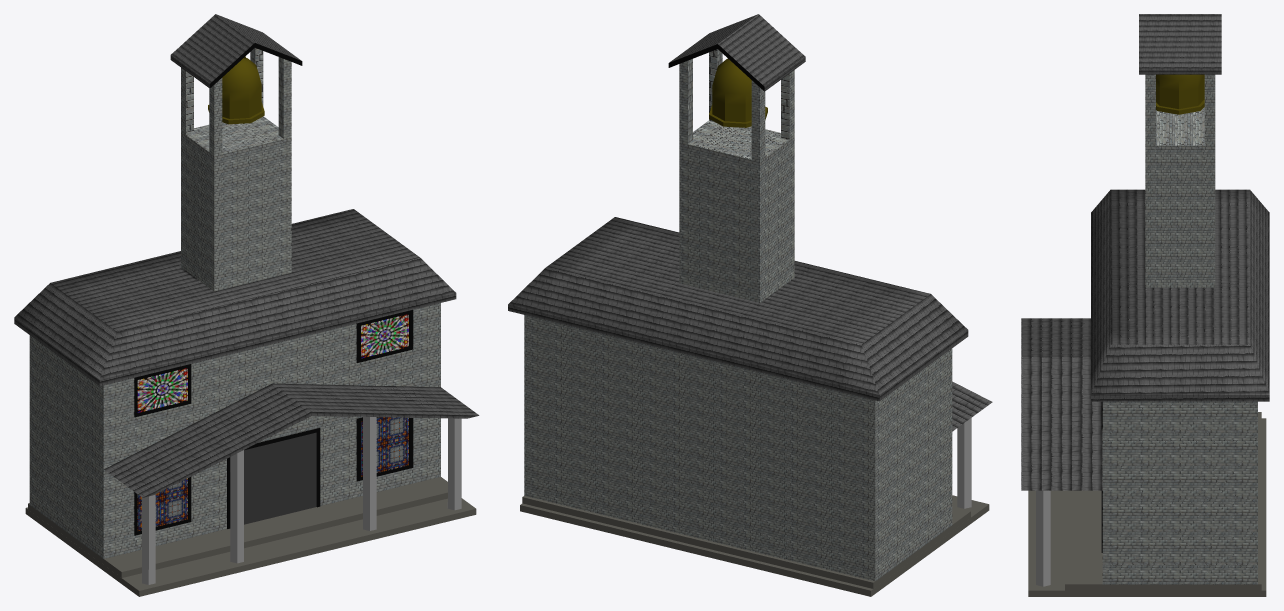
The model's file is TownHall.fbx.
The picture shows the model from 3 angles, left to right: view 1: azimuth 30°, elevation 25°; view 2: azimuth 150°, elevation 25°; view 3: azimuth 270°, elevation 25°; orthographic projection. The views are drawn at different scales.
Parts seen in each view (by area): view 1: polySurface6, TownHallBase01, TownHallBase02, TownHallBellRoof, TownHallBell, TownHallPillar02, TownHallPillar03, TownHallPillar01, TownHallPillar04; view 2: polySurface6, TownHallBellRoof, TownHallBase01, TownHallBase02, TownHallBell, TownHallPillar04; view 3: polySurface6, TownHallBase02, TownHallBase01, TownHallBellRoof, TownHallBell, TownHallPillar01.
Part boxes in pixels (x1=…): polySurface6: x1=14, y1=48, x2=479, y2=558; TownHallBase01: x1=25, y1=498, x2=476, y2=596; TownHallBase02: x1=28, y1=476, x2=447, y2=577; TownHallBellRoof: x1=170, y1=14, x2=302, y2=88; TownHallBell: x1=208, y1=58, x2=264, y2=124; TownHallPillar02: x1=363, y1=416, x2=376, y2=530; TownHallPillar03: x1=230, y1=450, x2=243, y2=563; TownHallPillar01: x1=447, y1=418, x2=461, y2=510; TownHallPillar04: x1=142, y1=494, x2=155, y2=584; polySurface6: x1=508, y1=49, x2=992, y2=581; TownHallBellRoof: x1=668, y1=14, x2=805, y2=91; TownHallBase01: x1=520, y1=495, x2=989, y2=596; TownHallBase02: x1=522, y1=495, x2=970, y2=588; TownHallBell: x1=709, y1=58, x2=767, y2=127; TownHallPillar04: x1=957, y1=418, x2=971, y2=508; polySurface6: x1=1021, y1=74, x2=1269, y2=584; TownHallBase02: x1=1065, y1=412, x2=1261, y2=590; TownHallBase01: x1=1028, y1=418, x2=1266, y2=596; TownHallBellRoof: x1=1139, y1=14, x2=1221, y2=74; TownHallBell: x1=1156, y1=74, x2=1204, y2=114; TownHallPillar01: x1=1036, y1=490, x2=1050, y2=586.
Bounding box in the file's own units: 628 × 797 × 361.
Materials: 9 (4 with a texture image).
